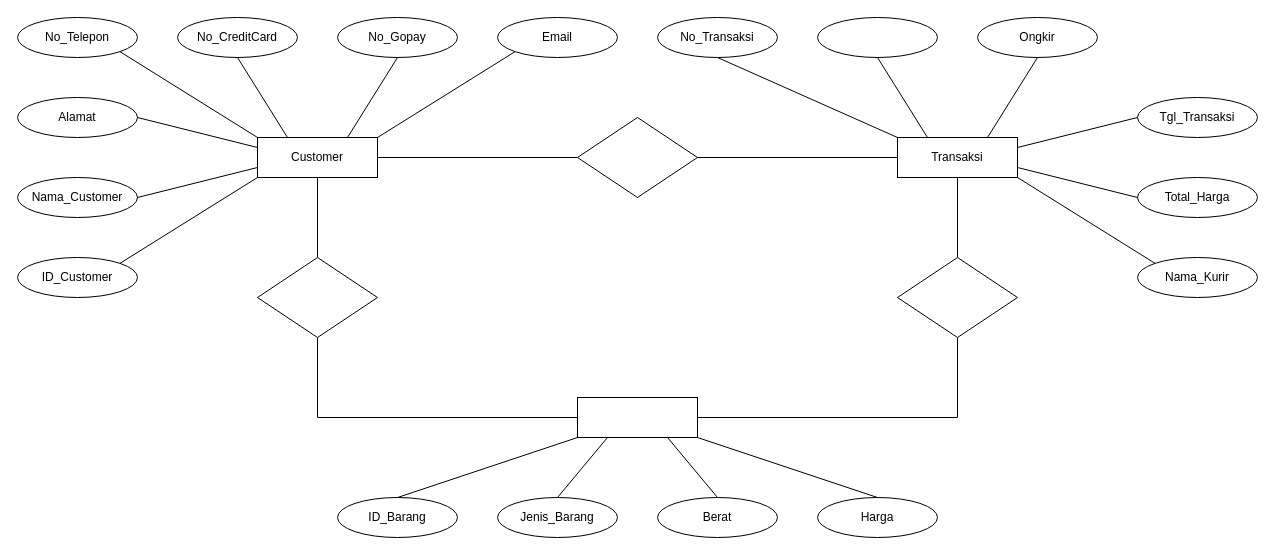
Some shapes in this 1275 by 555 pixel diagram are drawn without their labels. The shapes that lost their labels are listed below. From the top down, each one's centre as x and y in pixels, then its label:
At point 877,37: "Jumlah_Beli".
At point 637,157: "Melakukan".
At point 317,297: "Nembeli".
At point 957,297: "Mendapatkan".
At point 637,417: "Barang".
